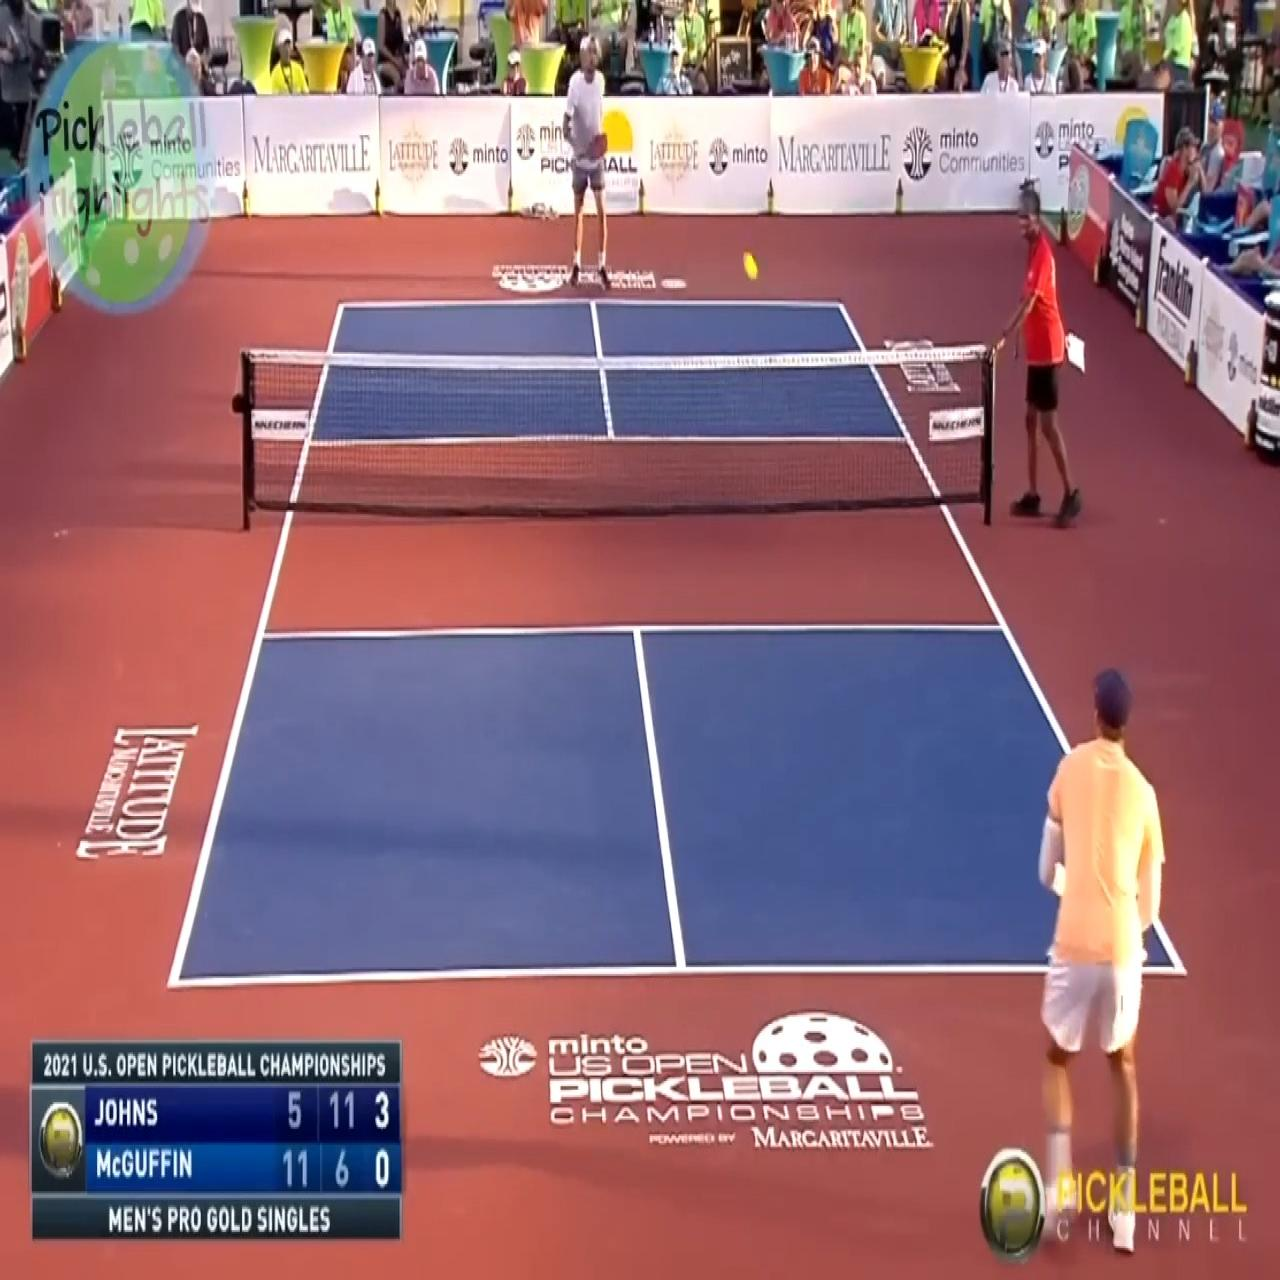pickleball: (743, 251, 758, 279)
